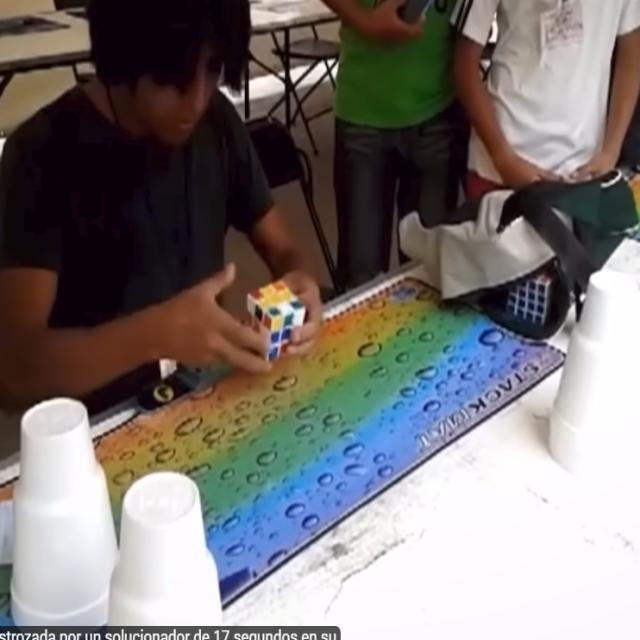Cubo-No-resuelto: (248, 281, 306, 359)
